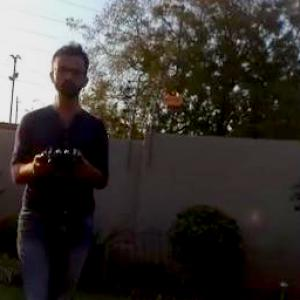follow: (5, 36, 115, 299)
